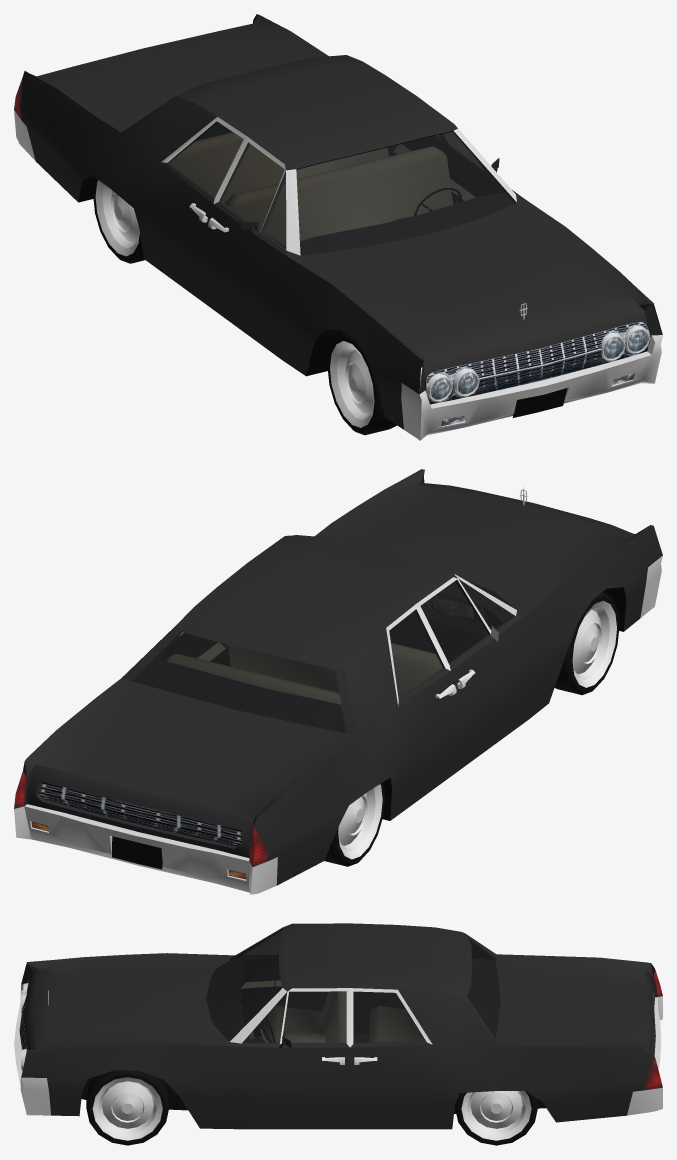
The model's file is lincoln-continental-1962-lowpoly-free-mo-fda253.glb.
The picture shows the model from 3 angles, top to bottom: view 1: azimuth 30°, elevation 25°; view 2: azimuth 150°, elevation 25°; view 3: azimuth 270°, elevation 25°; orthographic projection. The views are drawn at different scales.
Parts seen in each view (by area): view 1: body, wheel-front-right, wheel-back-right; view 2: body, wheel-front-right, wheel-back-right; view 3: body, wheel-front-left, wheel-back-left.
Boxes of the visible parts, left/top/right/bottom form: body: left=14, top=14, right=662, bottom=440; wheel-front-right: left=327, top=332, right=396, bottom=435; wheel-back-right: left=93, top=178, right=144, bottom=263; body: left=14, top=469, right=662, bottom=894; wheel-front-right: left=554, top=592, right=619, bottom=695; wheel-back-right: left=324, top=782, right=384, bottom=866; body: left=14, top=923, right=662, bottom=1129; wheel-front-left: left=86, top=1070, right=169, bottom=1145; wheel-back-left: left=455, top=1091, right=537, bottom=1145.
Bounding box in the file's own units: 1.98 × 1.36 × 5.46.
Materials: 9 (2 with a texture image).
